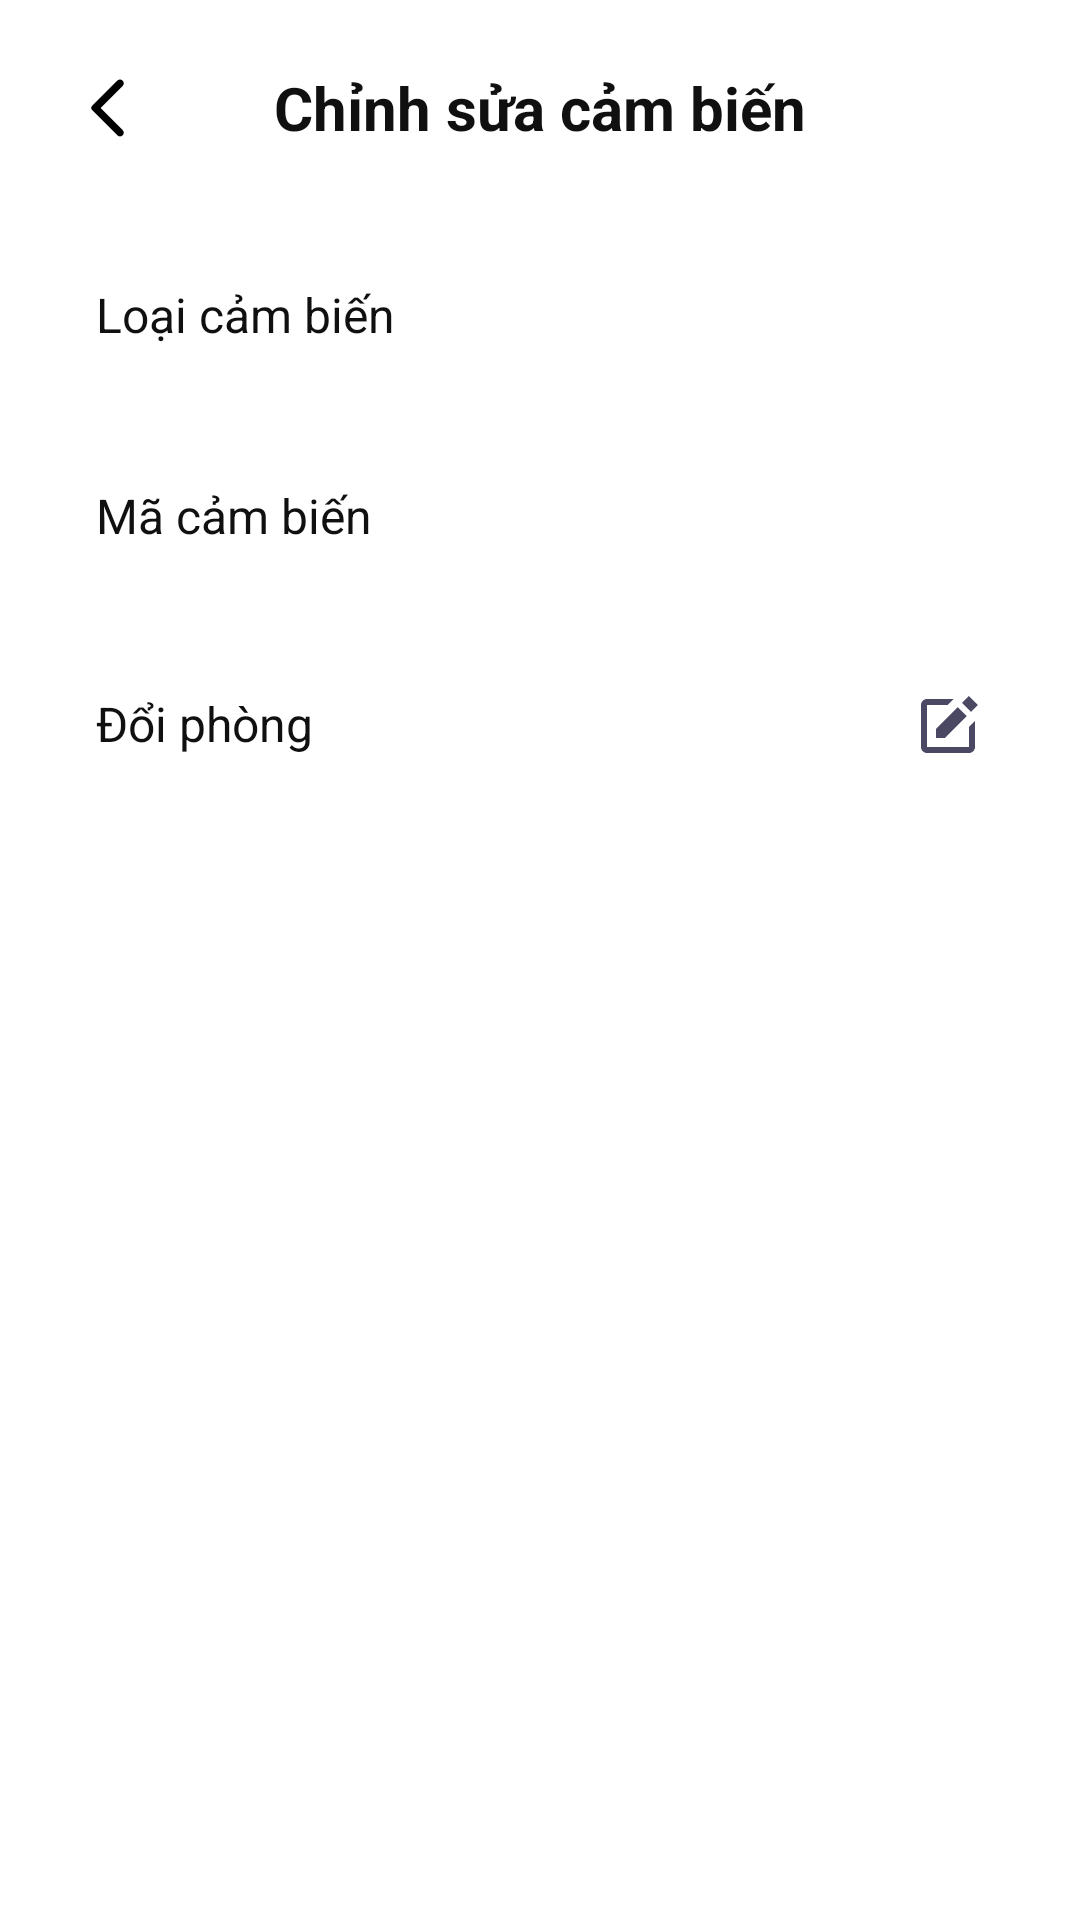

Where to tap for icons on this 1080*1920 app screen, as (x,y):
arrow back: (107,108)
